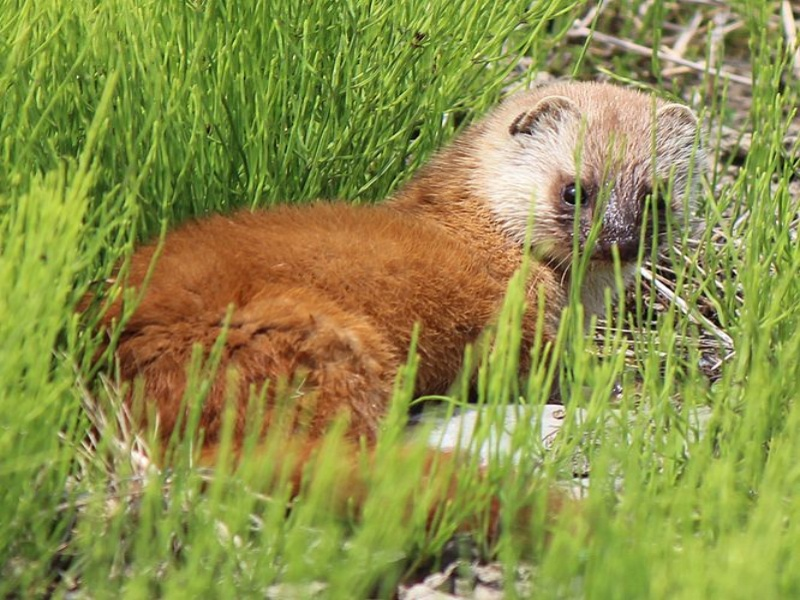minkish: (99, 80, 712, 483)
